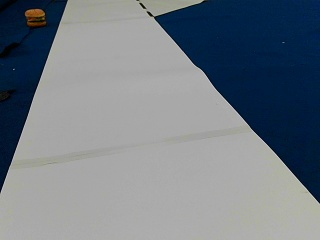burger: (24, 7, 46, 27)
